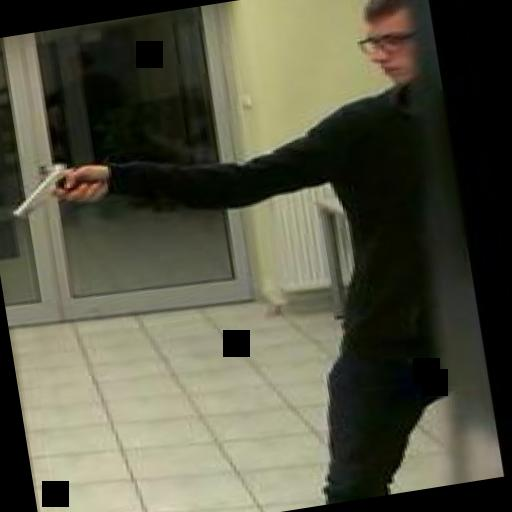Handgun: (0, 156, 96, 220)
